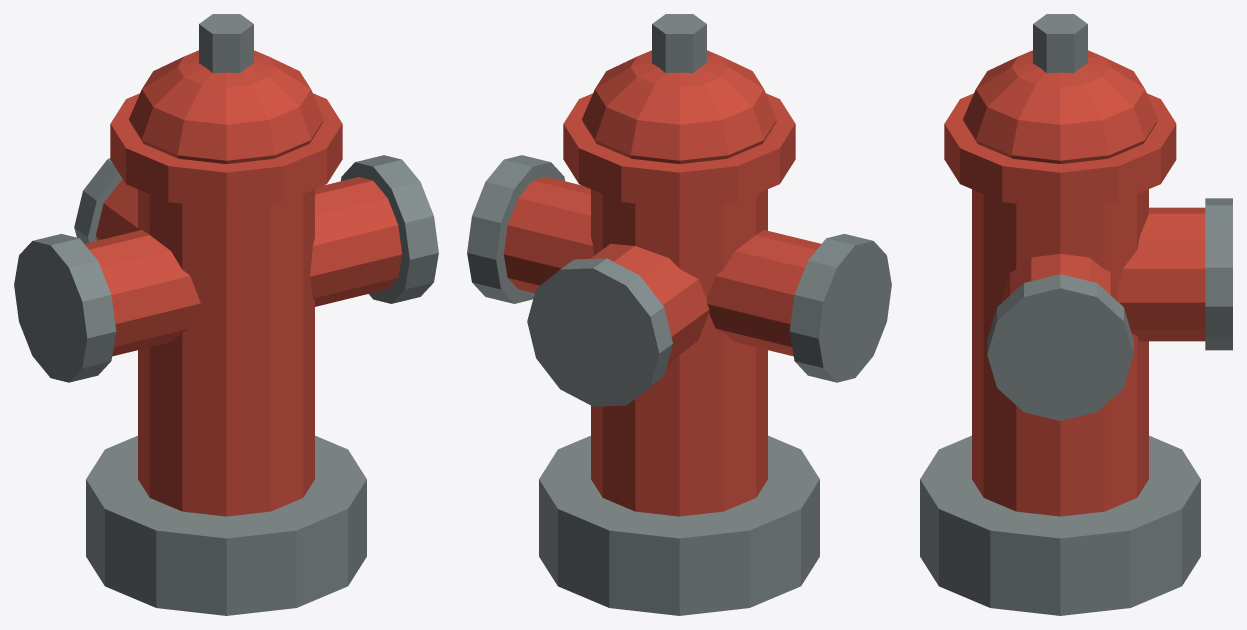
File: fire_hydrant.glb
3 views of the same model, side by side, from view 1: azimuth 30°, elevation 25°; view 2: azimuth 150°, elevation 25°; view 3: azimuth 270°, elevation 25° (orthographic).
Parts seen in each view (by area): view 1: fire_hydrant; view 2: fire_hydrant; view 3: fire_hydrant.
Part boxes in pixels (x1,y1,x2,y2): fire_hydrant: [14, 14, 438, 615]; fire_hydrant: [467, 14, 891, 615]; fire_hydrant: [920, 14, 1232, 615].
Bounding box in the file's own units: 0.665 × 0.9625 × 0.5125.
